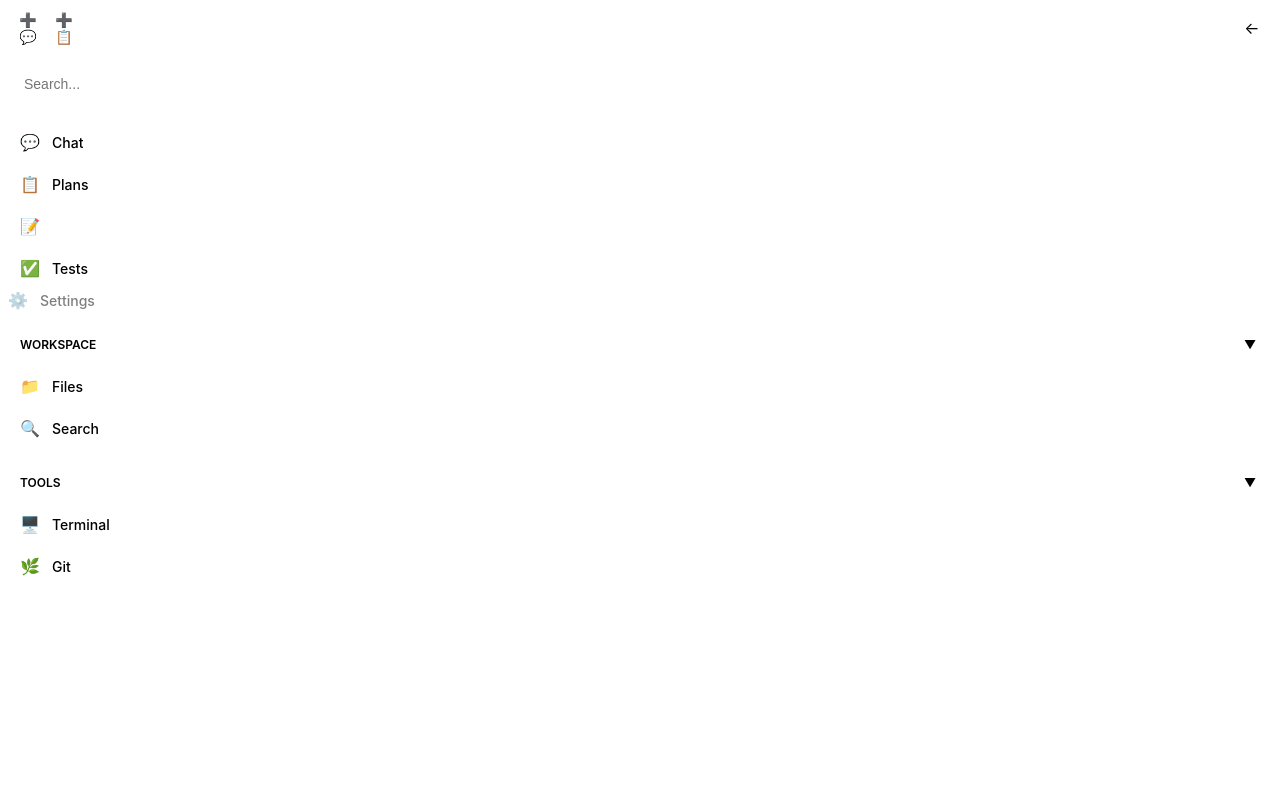
it: Sidebar › Search › shows no results message
Type "xyz123" into the field with placeholder "Search..." at (640, 84), box [12,68,1268,100]
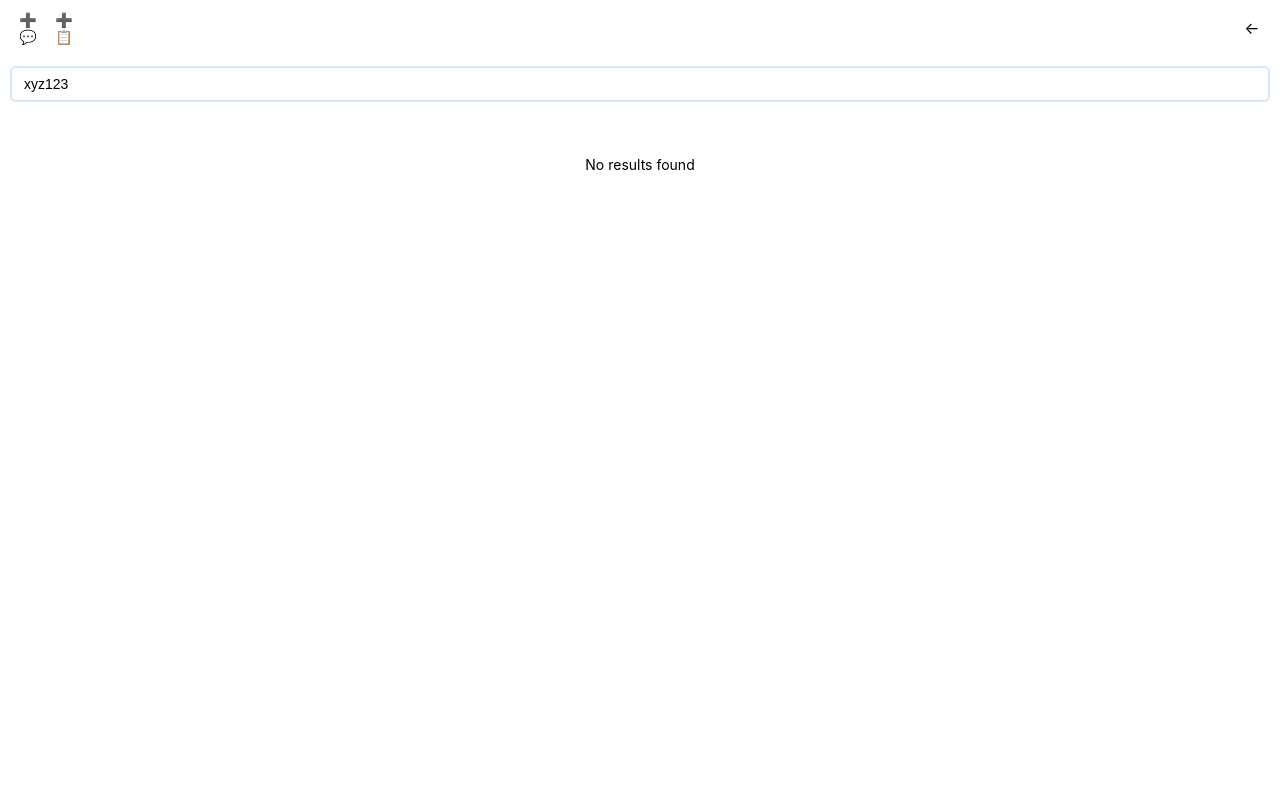
Check: the text "No results found" is shown, box [585,156,695,173]
